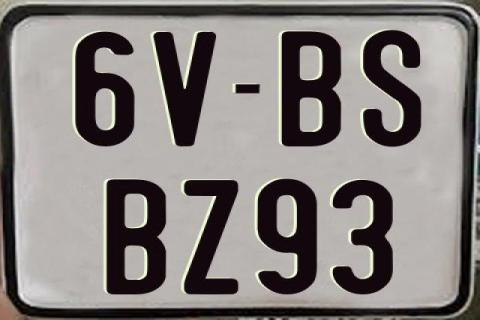0: (72, 29, 137, 150), (257, 177, 323, 296), (330, 179, 394, 297)
B: (281, 29, 342, 148), (104, 179, 164, 296)
S: (363, 30, 423, 150)
V: (151, 32, 215, 147)
Z: (183, 179, 243, 297)
